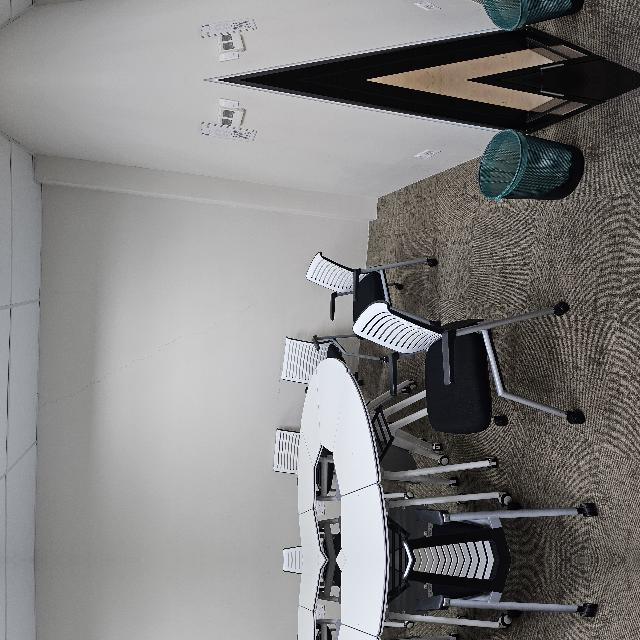obstacle: (1, 373, 205, 589), (124, 431, 262, 640), (124, 453, 262, 640), (1, 531, 205, 640), (354, 454, 434, 566), (255, 388, 321, 508), (354, 554, 434, 640), (255, 611, 321, 640)
